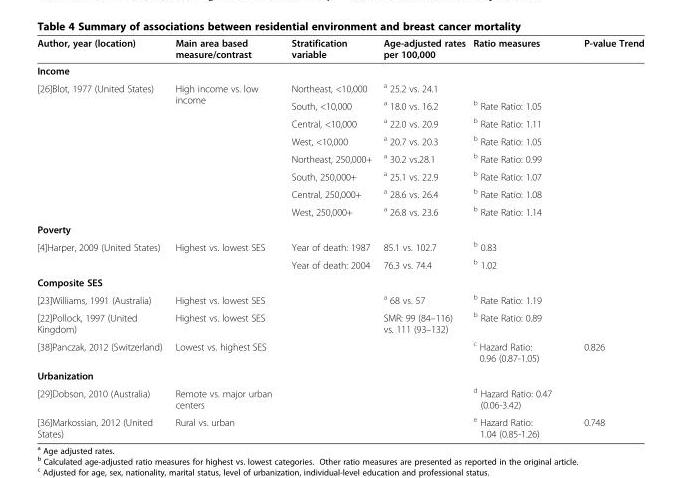table: (36, 36, 643, 438)
table column: (36, 36, 168, 438), (168, 36, 281, 438), (468, 36, 567, 438), (281, 36, 376, 438), (376, 36, 468, 438), (567, 36, 643, 438)
table column header: (36, 36, 643, 62)
table projected row header: (36, 220, 643, 237), (36, 273, 643, 290), (36, 366, 643, 383), (36, 62, 643, 78)
table row: (36, 336, 643, 366), (36, 307, 643, 336), (36, 383, 643, 412), (36, 36, 643, 62), (36, 412, 643, 438), (36, 254, 643, 273), (36, 78, 643, 96), (36, 113, 643, 131), (36, 131, 643, 149), (36, 166, 643, 184), (36, 184, 643, 202), (36, 202, 643, 220), (36, 96, 643, 113), (36, 149, 643, 166), (36, 220, 643, 237), (36, 237, 643, 254), (36, 273, 643, 290), (36, 290, 643, 307), (36, 366, 643, 383), (36, 62, 643, 78)
table spanning cell: (36, 78, 168, 220), (168, 78, 281, 220), (36, 237, 168, 273), (168, 237, 281, 273)
